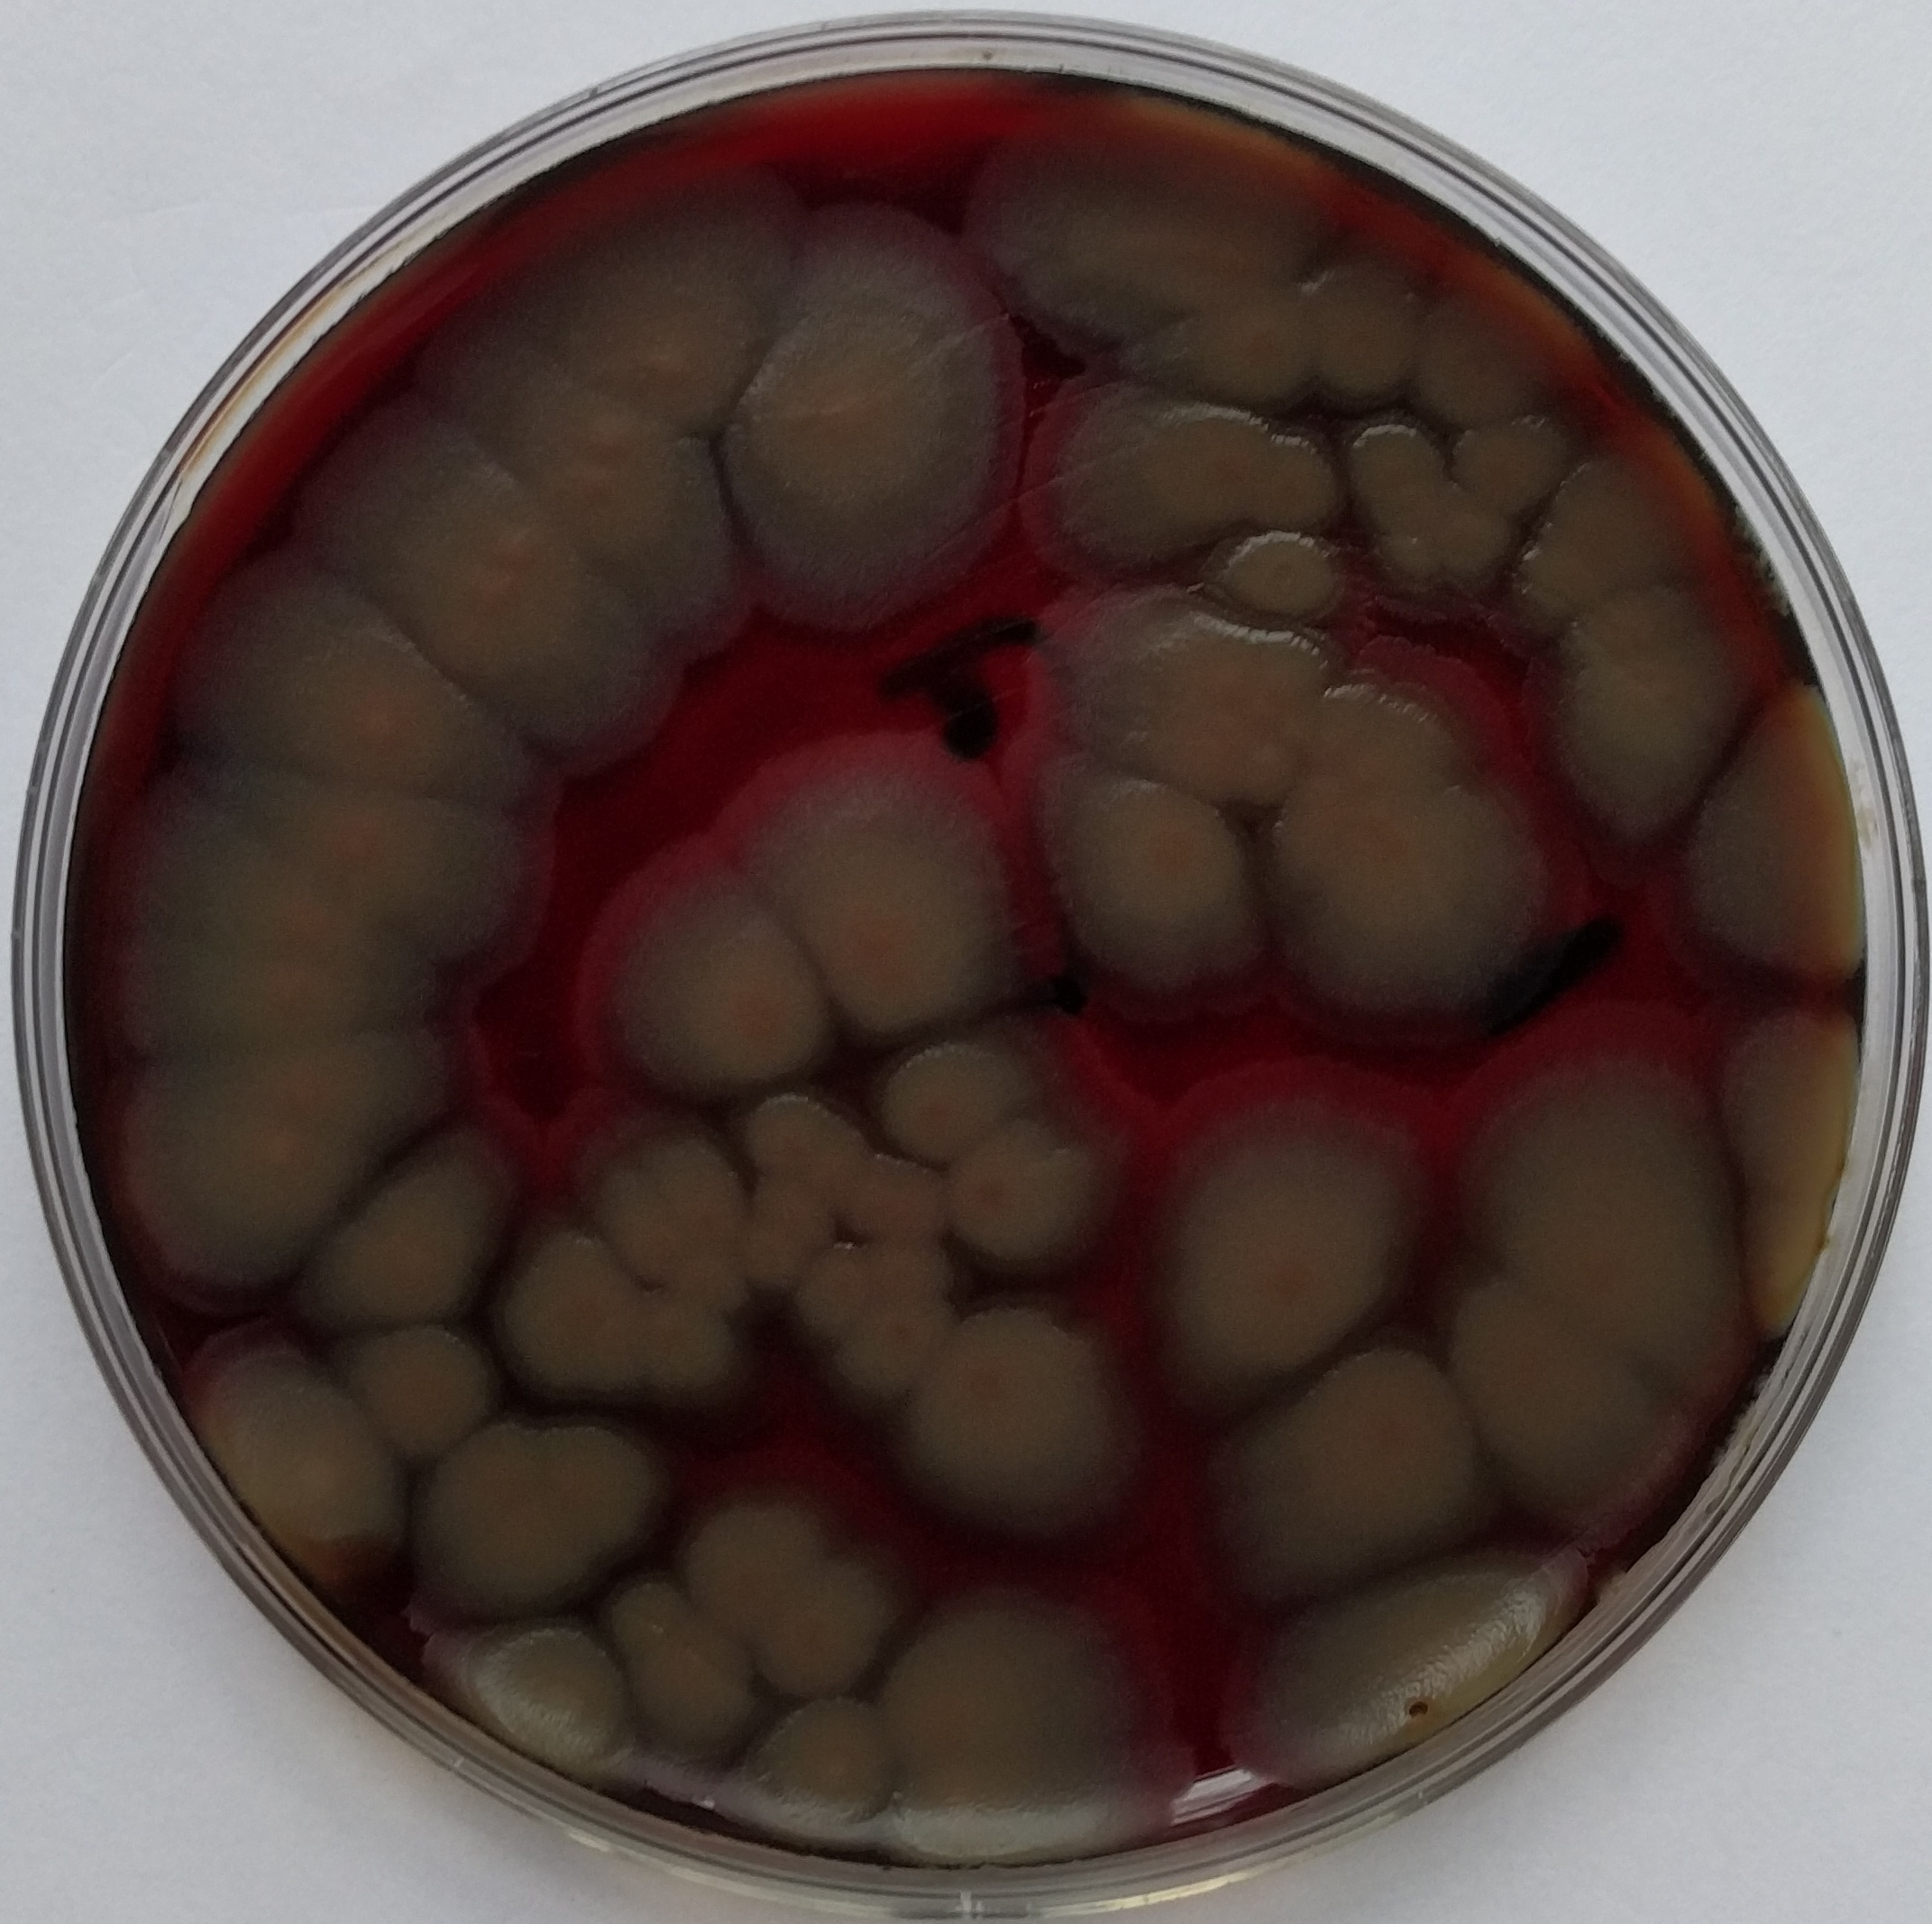sp04: (271, 354, 699, 795), (727, 176, 1032, 659), (159, 497, 569, 832), (1441, 1008, 1788, 1395), (1185, 1543, 1645, 1824), (74, 740, 456, 1069), (727, 705, 1044, 1092), (1125, 1038, 1430, 1438), (74, 1025, 468, 1313), (948, 88, 1353, 356), (144, 728, 516, 997), (116, 1299, 444, 1591), (1208, 1311, 1520, 1609), (858, 1579, 1175, 1871), (490, 176, 801, 469), (1226, 735, 1560, 1004), (1446, 1263, 1710, 1586), (1030, 592, 1358, 849), (549, 835, 866, 1098), (1018, 361, 1347, 588), (870, 1281, 1152, 1545), (264, 1091, 546, 1355), (1678, 657, 1888, 980), (1708, 973, 1876, 1360), (402, 1394, 689, 1609), (472, 1210, 782, 1408), (402, 1579, 676, 1799), (1030, 758, 1282, 997), (1120, 236, 1425, 416), (567, 1566, 777, 1788), (1501, 426, 1703, 647), (1328, 384, 1513, 606), (1546, 640, 1745, 832), (697, 1684, 925, 1848), (294, 1323, 534, 1461), (865, 1013, 1062, 1165), (667, 1489, 859, 1633), (734, 1554, 902, 1716), (1280, 664, 1485, 795), (935, 1114, 1097, 1277), (722, 1055, 884, 1217), (1529, 574, 1738, 694), (1428, 384, 1603, 516), (544, 1133, 706, 1272), (1386, 259, 1543, 391), (632, 1114, 736, 1272), (1220, 527, 1353, 641), (805, 1203, 919, 1295), (675, 1226, 759, 1330), (805, 1311, 884, 1390)
